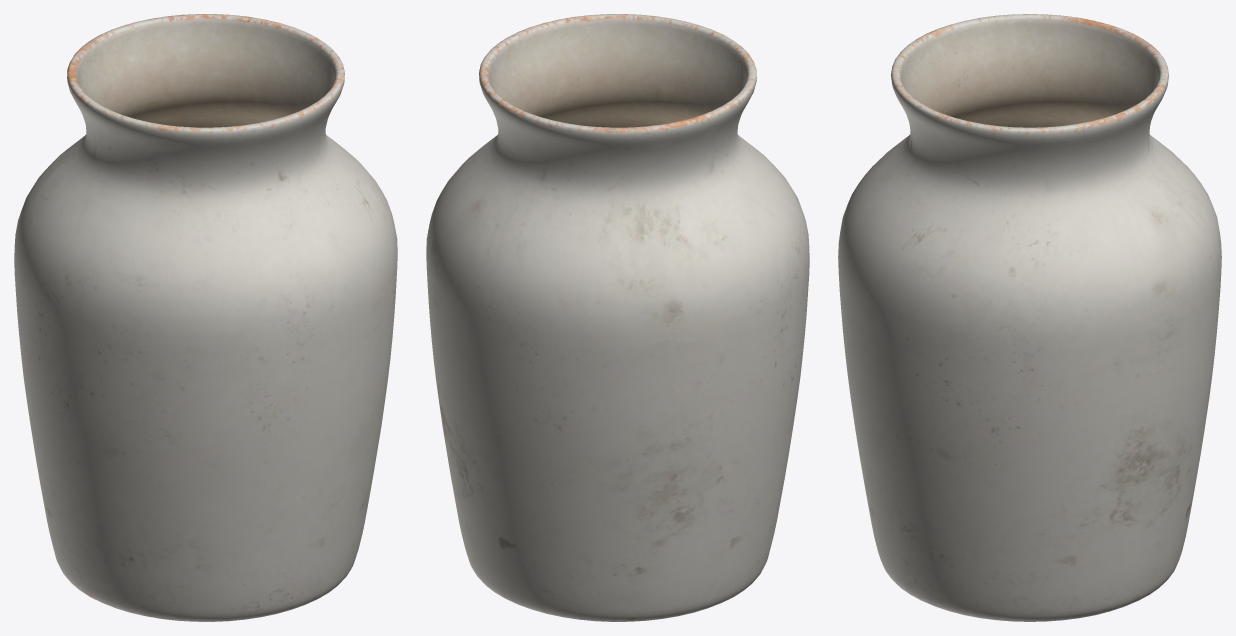
File: 静物_瓶罐_Ceramic Vase_opt.glb
3 renders of one model, left to right at view 1: azimuth 30°, elevation 25°; view 2: azimuth 150°, elevation 25°; view 3: azimuth 270°, elevation 25°, orthographic.
Visible parts, largest first — view 1: ceramic_vase_02; view 2: ceramic_vase_02; view 3: ceramic_vase_02.
Part boxes in pixels (box(x1,y1,x2,y2)): ceramic_vase_02: box(14, 14, 397, 621); ceramic_vase_02: box(426, 14, 809, 621); ceramic_vase_02: box(838, 14, 1221, 621).
Bounding box in the file's own units: 0.2184 × 0.3092 × 0.2184.
1 material, 1 textured.
